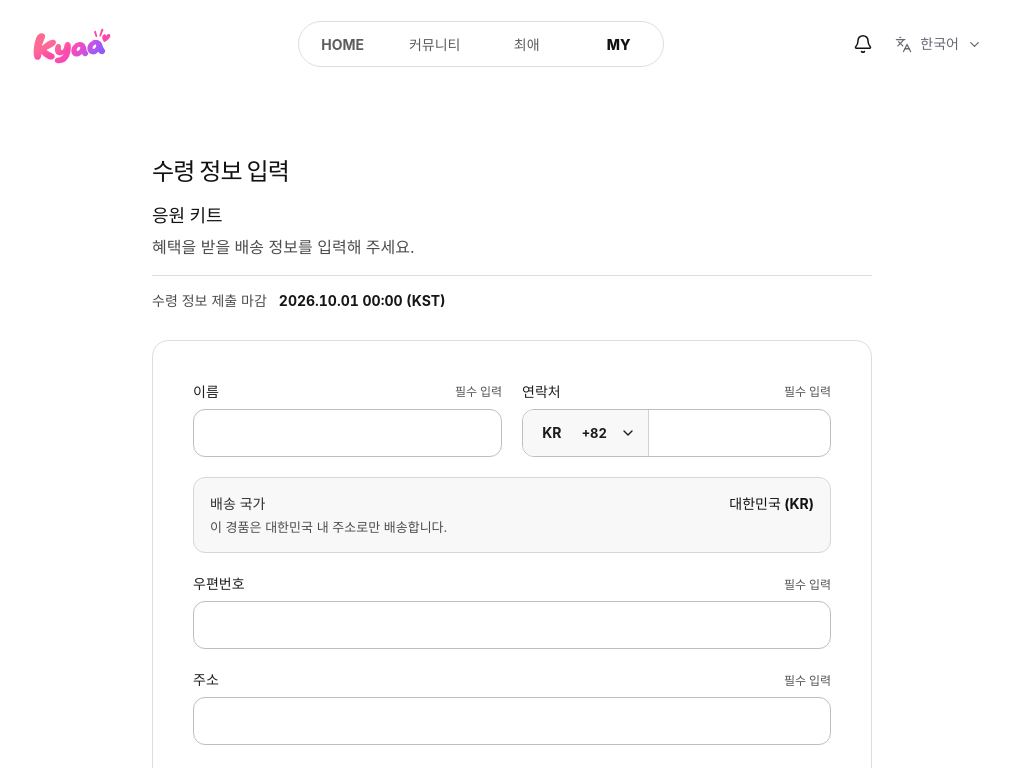
Test: Benefit recipient screen › locks POST after an uncertain response until both owner resources are confirmed
In the field labelled "이름 필수 입력": (348, 433) x1=193 y1=409 x2=502 y2=457, type " 홍길동 "
In the field labelled "연락처 필수 입력": (740, 433) x1=649 y1=410 x2=830 y2=456, type "010-1234-5678"
In the field labelled "우편번호 필수 입력": (512, 626) x1=193 y1=602 x2=831 y2=650, type "04524"
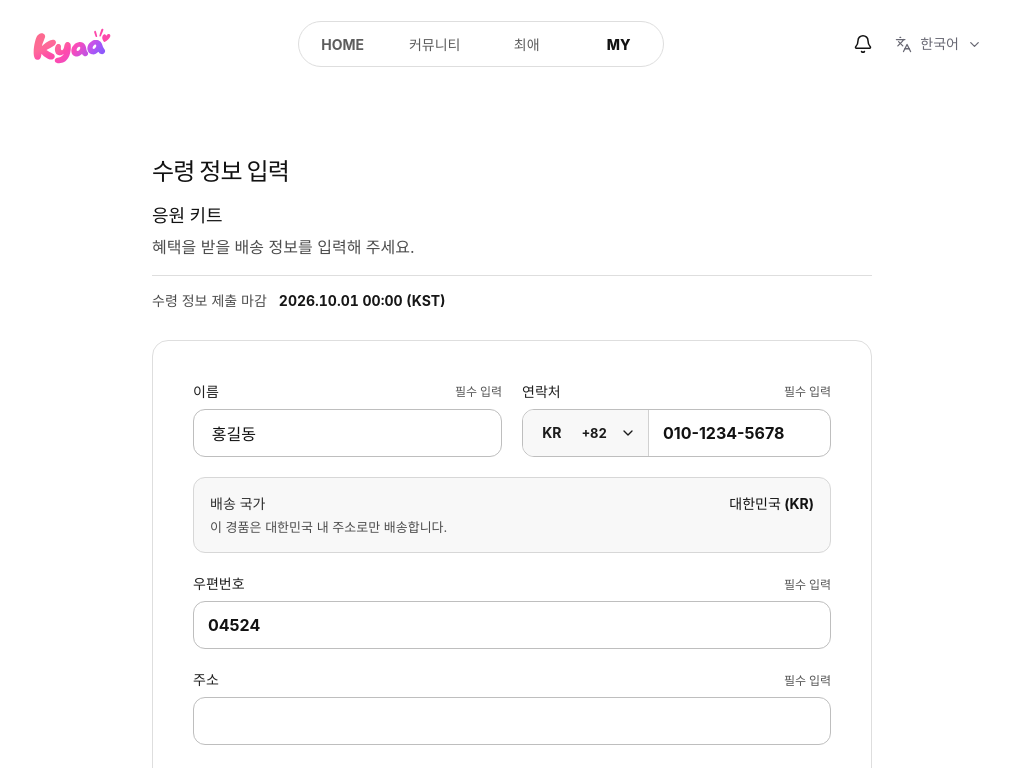
In the field labelled "주소 필수 입력": (512, 722) x1=193 y1=698 x2=831 y2=746, type "서울시 중구"
(page scrolled)
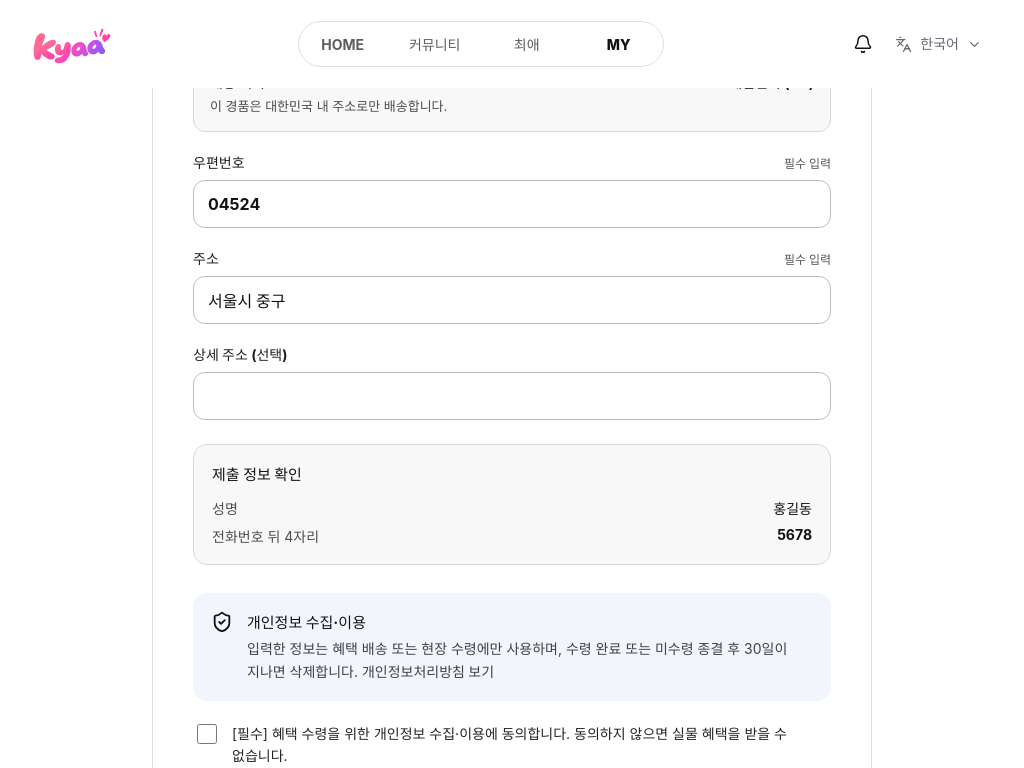
In the field labelled "상세 주소 (선택)": (512, 396) x1=193 y1=372 x2=831 y2=420, type "101호"
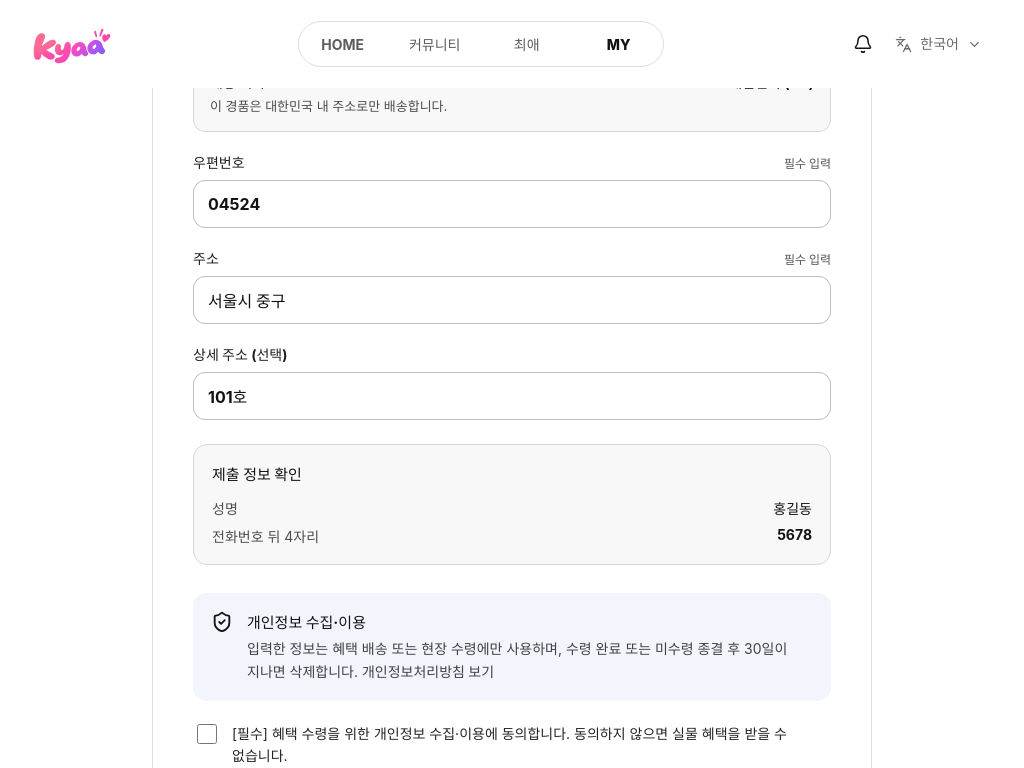
Click the checkbox labelled "[필수] 혜택 수령을 위한 개인정보 수집·이용에 동의합니다. 동의하지 않으면 실물 혜택을 받을 수 없습니다.": (207, 734) x1=197 y1=724 x2=217 y2=744
(page scrolled)
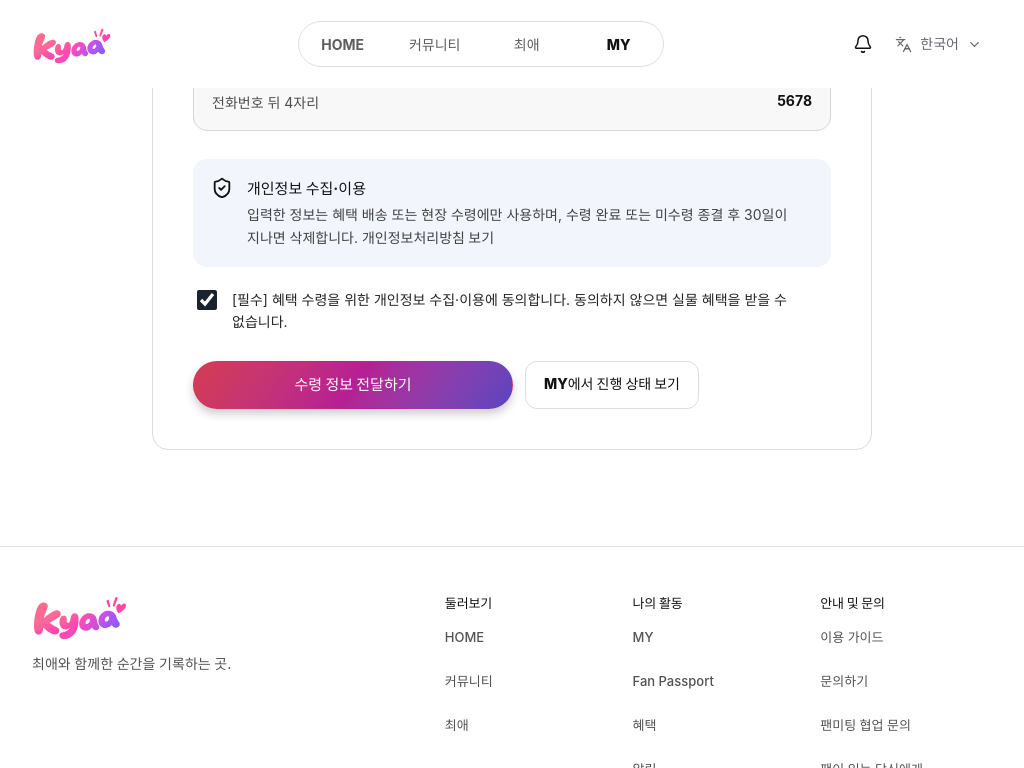
Click the button "수령 정보 전달하기": (353, 385) x1=193 y1=361 x2=513 y2=409
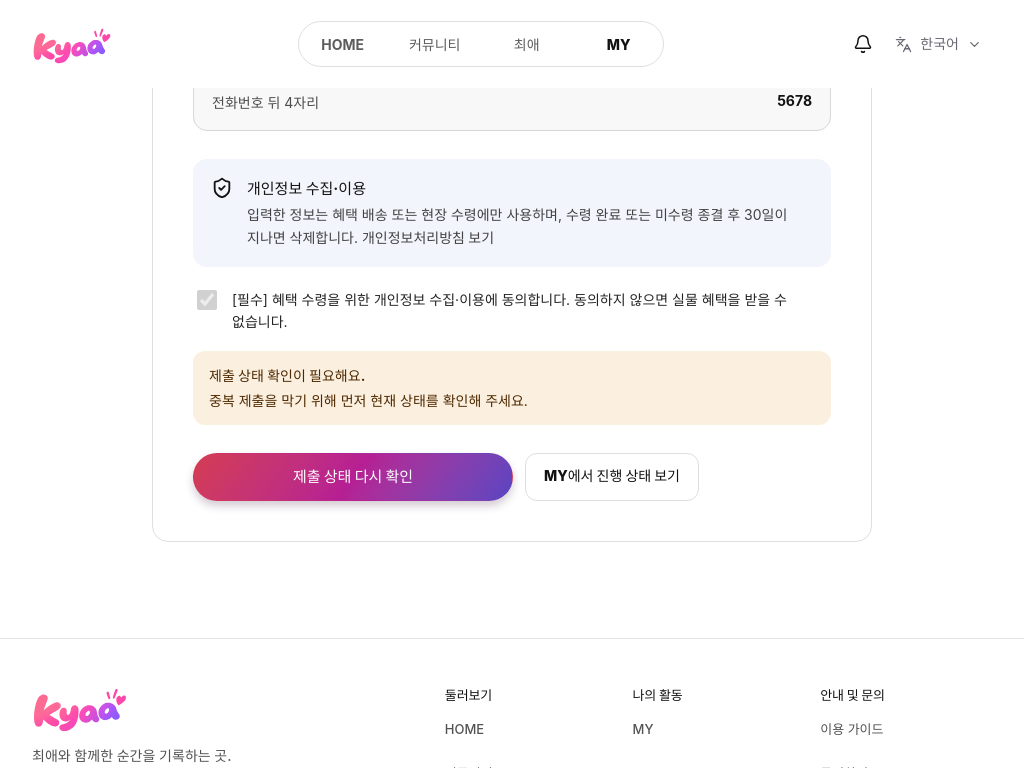
Check: the button "제출 상태 다시 확인" is shown
Click the button "제출 상태 다시 확인": (353, 477) x1=193 y1=453 x2=513 y2=501
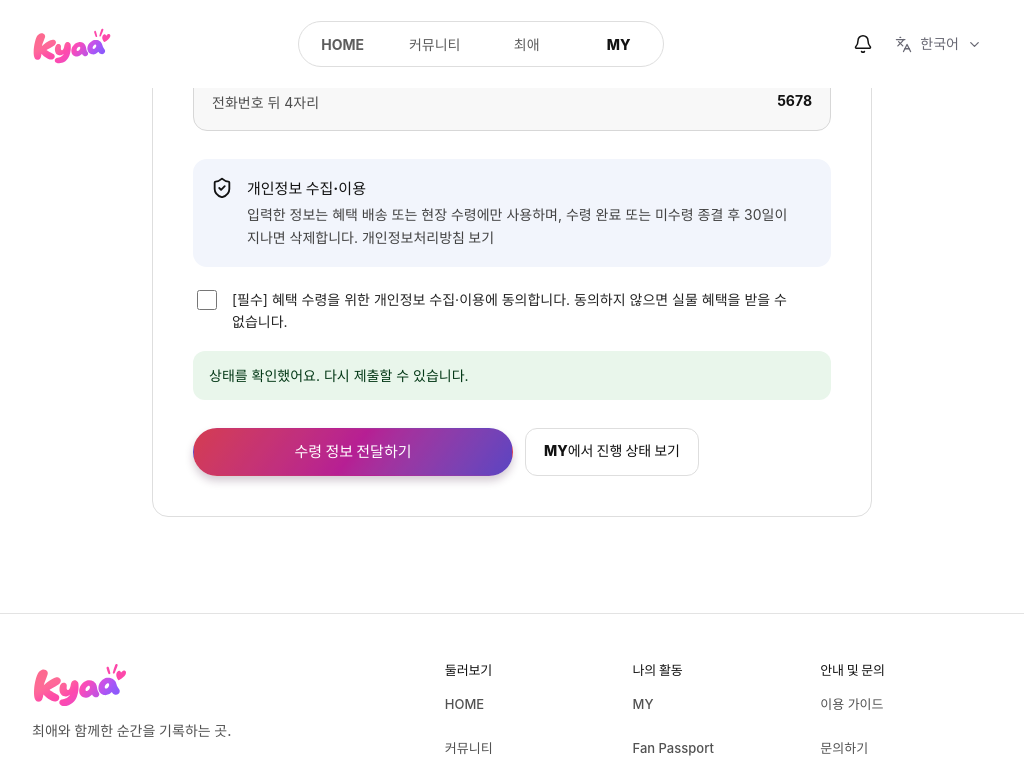
Check: the checkbox is not checked, box x1=197 y1=290 x2=217 y2=310
Check: the button "수령 정보 전달하기" is shown, box x1=193 y1=428 x2=513 y2=476
